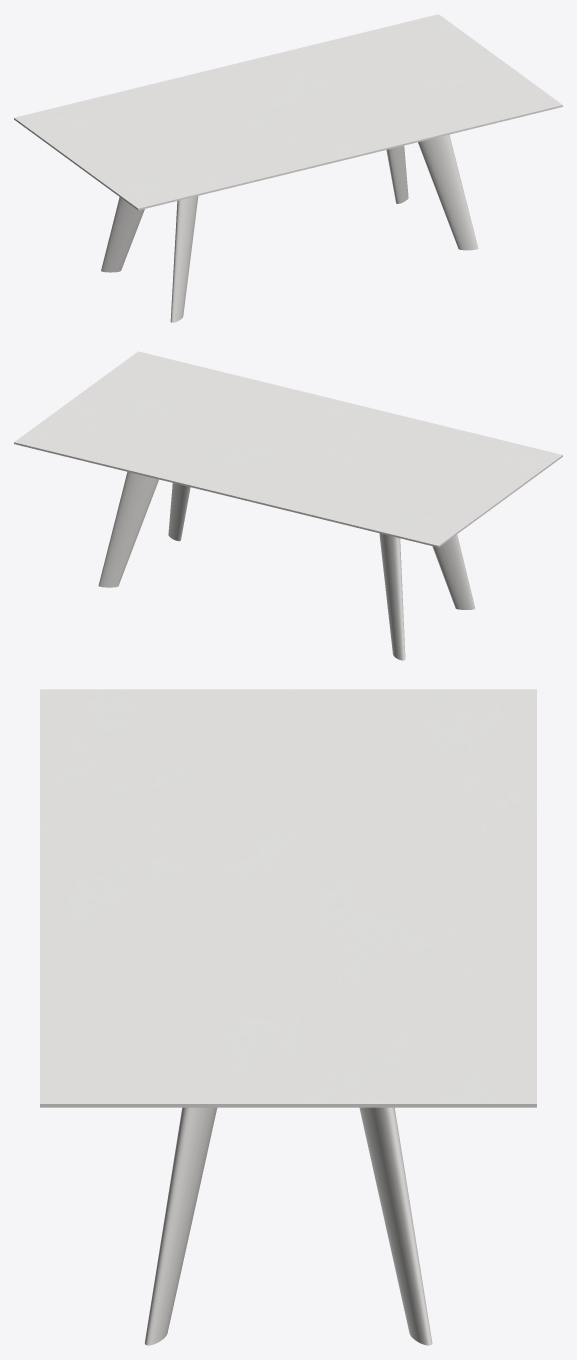
File: purewhite_recta_facet_ferdinantwalnut.glb
3 views of the same model, one above another, from view 1: azimuth 30°, elevation 25°; view 2: azimuth 150°, elevation 25°; view 3: azimuth 270°, elevation 25° (orthographic). The views are drawn at different scales.
Visible parts, largest first — view 1: facet_recta, ferdinandwalnut; view 2: facet_recta, ferdinandwalnut; view 3: facet_recta, ferdinandwalnut.
Boxes of the visible parts, x1,y1,x2,y2 form: facet_recta: [14, 14, 562, 210]; ferdinandwalnut: [101, 134, 478, 322]; facet_recta: [14, 351, 562, 547]; ferdinandwalnut: [98, 472, 475, 660]; facet_recta: [40, 689, 536, 1107]; ferdinandwalnut: [145, 1107, 432, 1345].
Size of the model in its own units: 7.5 by 2.51 by 3.8.
Materials: 1 (1 with a texture image).
